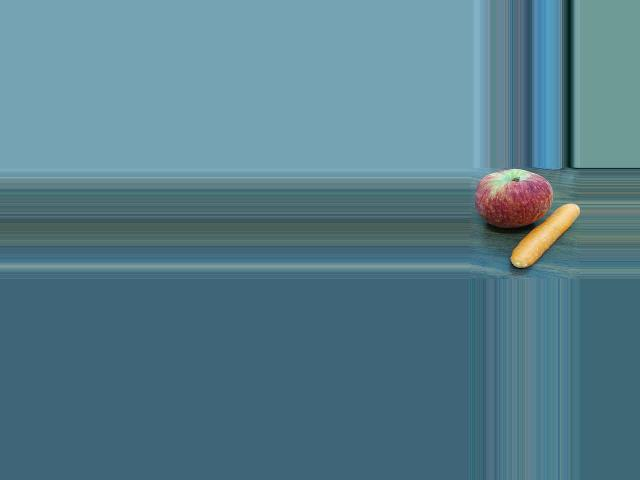carrot: (501, 199, 579, 270)
